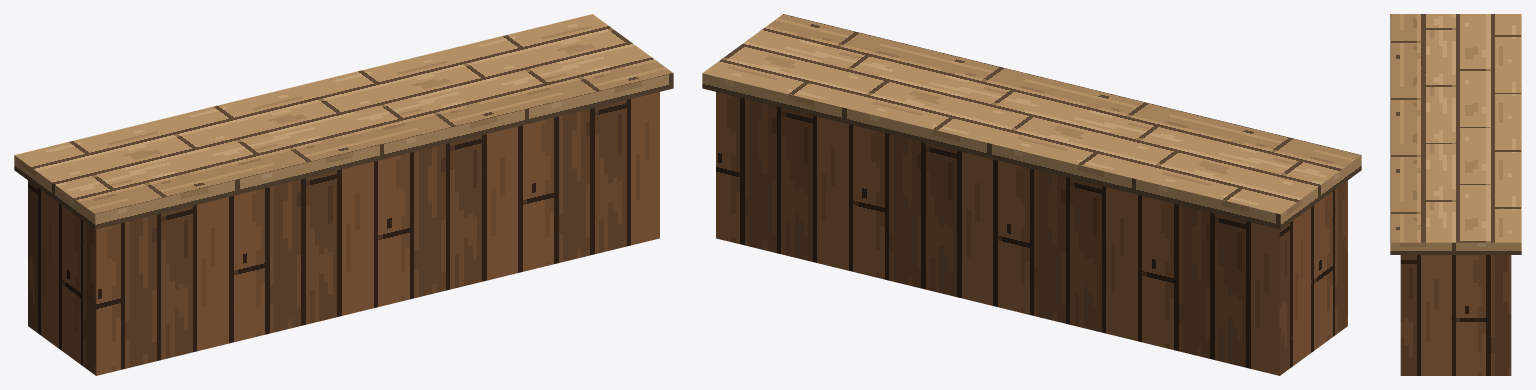
File: counter.glb
3 renders of one model, left to right at view 1: azimuth 30°, elevation 25°; view 2: azimuth 150°, elevation 25°; view 3: azimuth 270°, elevation 25°, orthographic. The views are drawn at different scales.
Visible parts, largest first — view 1: counter; view 2: counter; view 3: counter.
Boxes of the visible parts, <box> form: counter: <box>14,14,673,375</box>; counter: <box>702,14,1361,375</box>; counter: <box>1390,14,1521,375</box>.
Size of the model in its own units: 3.96 by 1.1 by 0.96.
2 materials, 2 textured.
